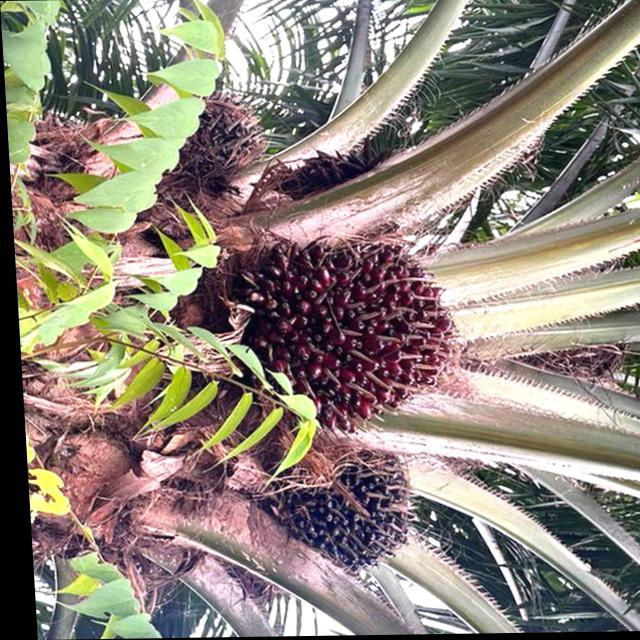ripe: (208, 212, 492, 452)
